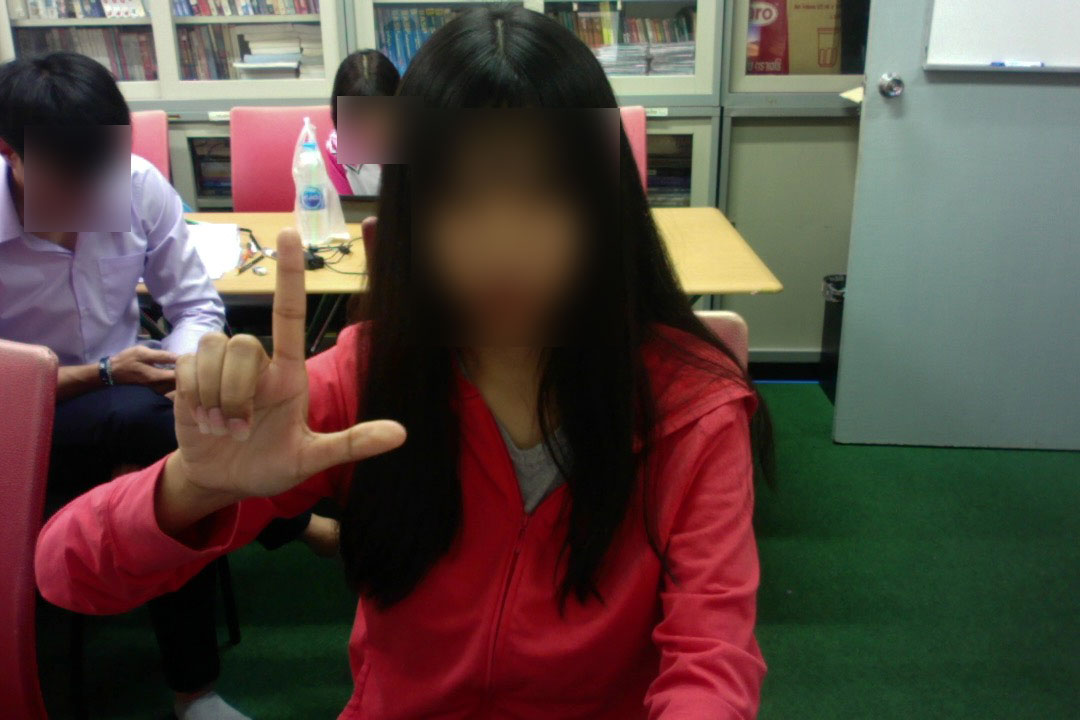lor: (132, 220, 418, 486)
